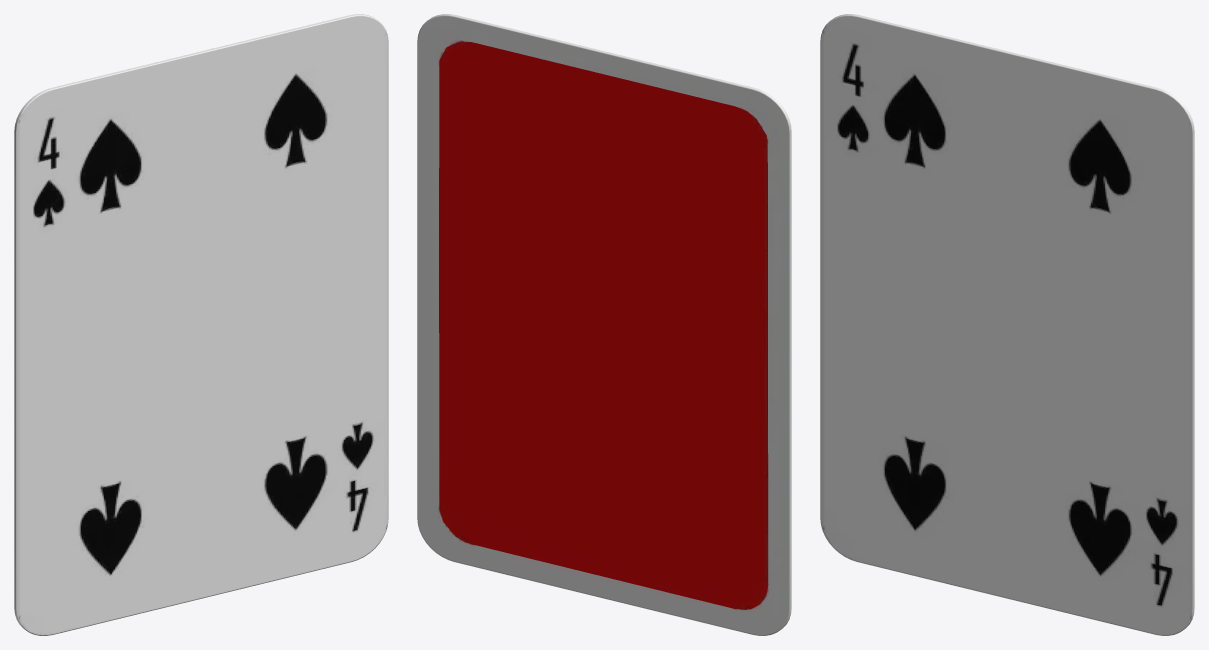
Rendered from spades_4-transformed.glb.
3 views of the same model, side by side, from view 1: azimuth 30°, elevation 25°; view 2: azimuth 150°, elevation 25°; view 3: azimuth 330°, elevation 25° (orthographic).
Visible parts, largest first — view 1: defaultMaterial.008; view 2: defaultMaterial.008; view 3: defaultMaterial.008.
Part boxes in pixels (left/top/right/bottom): defaultMaterial.008: left=14, top=14, right=388, bottom=635; defaultMaterial.008: left=417, top=14, right=791, bottom=635; defaultMaterial.008: left=820, top=14, right=1194, bottom=635.
Bounding box in the file's own units: 0.1408 × 0.1972 × 0.00111.
Materials: 1 (1 with a texture image).
